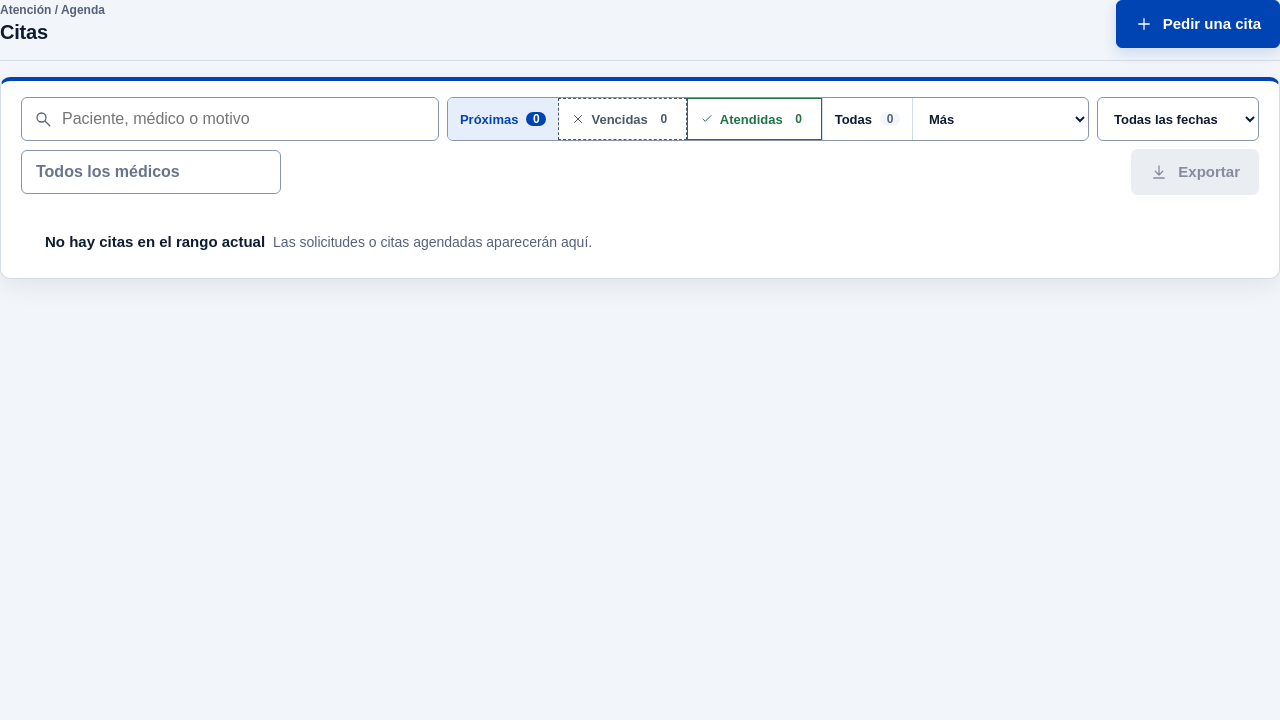
Lote 5 S16 · «Pedir una cita» por grupos › the patient sees the reasons under group headings
Click the button "Pedir una cita" at (1198, 24), box [1116,0,1279,48]
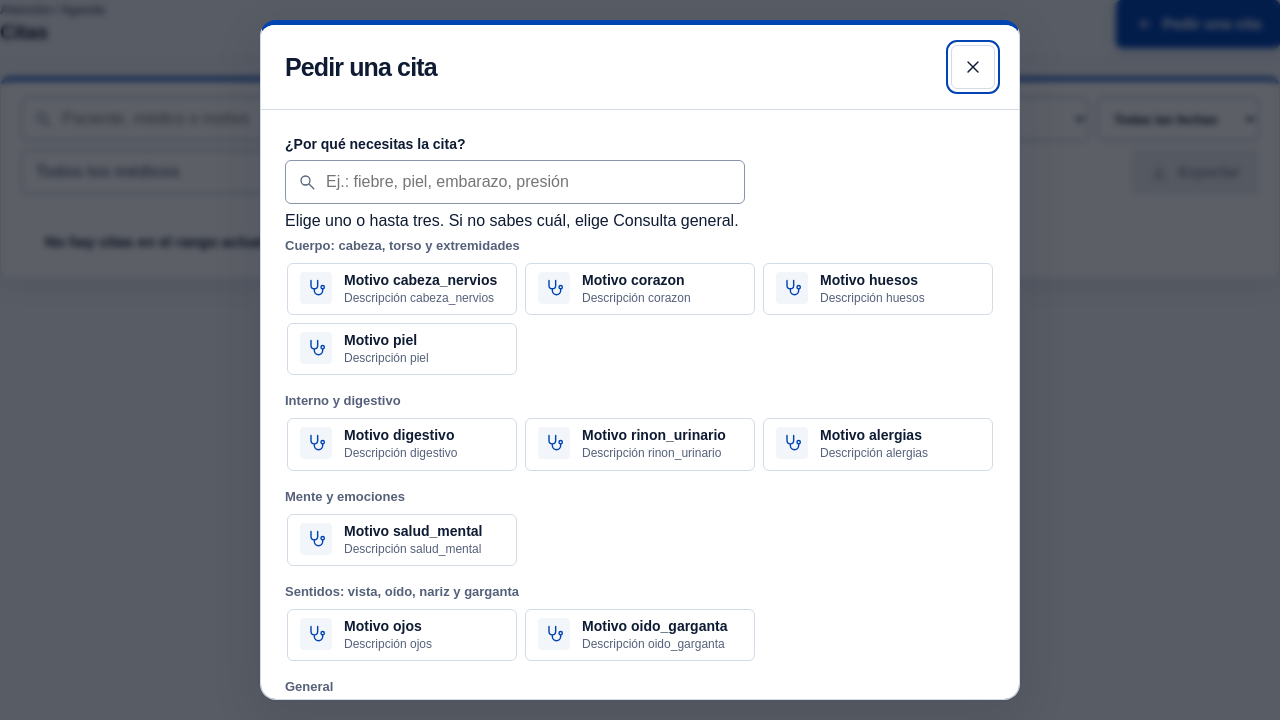
Result: the buttons read "Motivo ojosDescripción ojos", "Motivo oido_gargantaDescripción oido_garganta", in this order at [287,609,517,661]; [525,609,755,661]
Result: the element "Mente y emociones" is shown at [285,489,517,566]
Result: the heading "General" is shown at [285,679,333,694]
